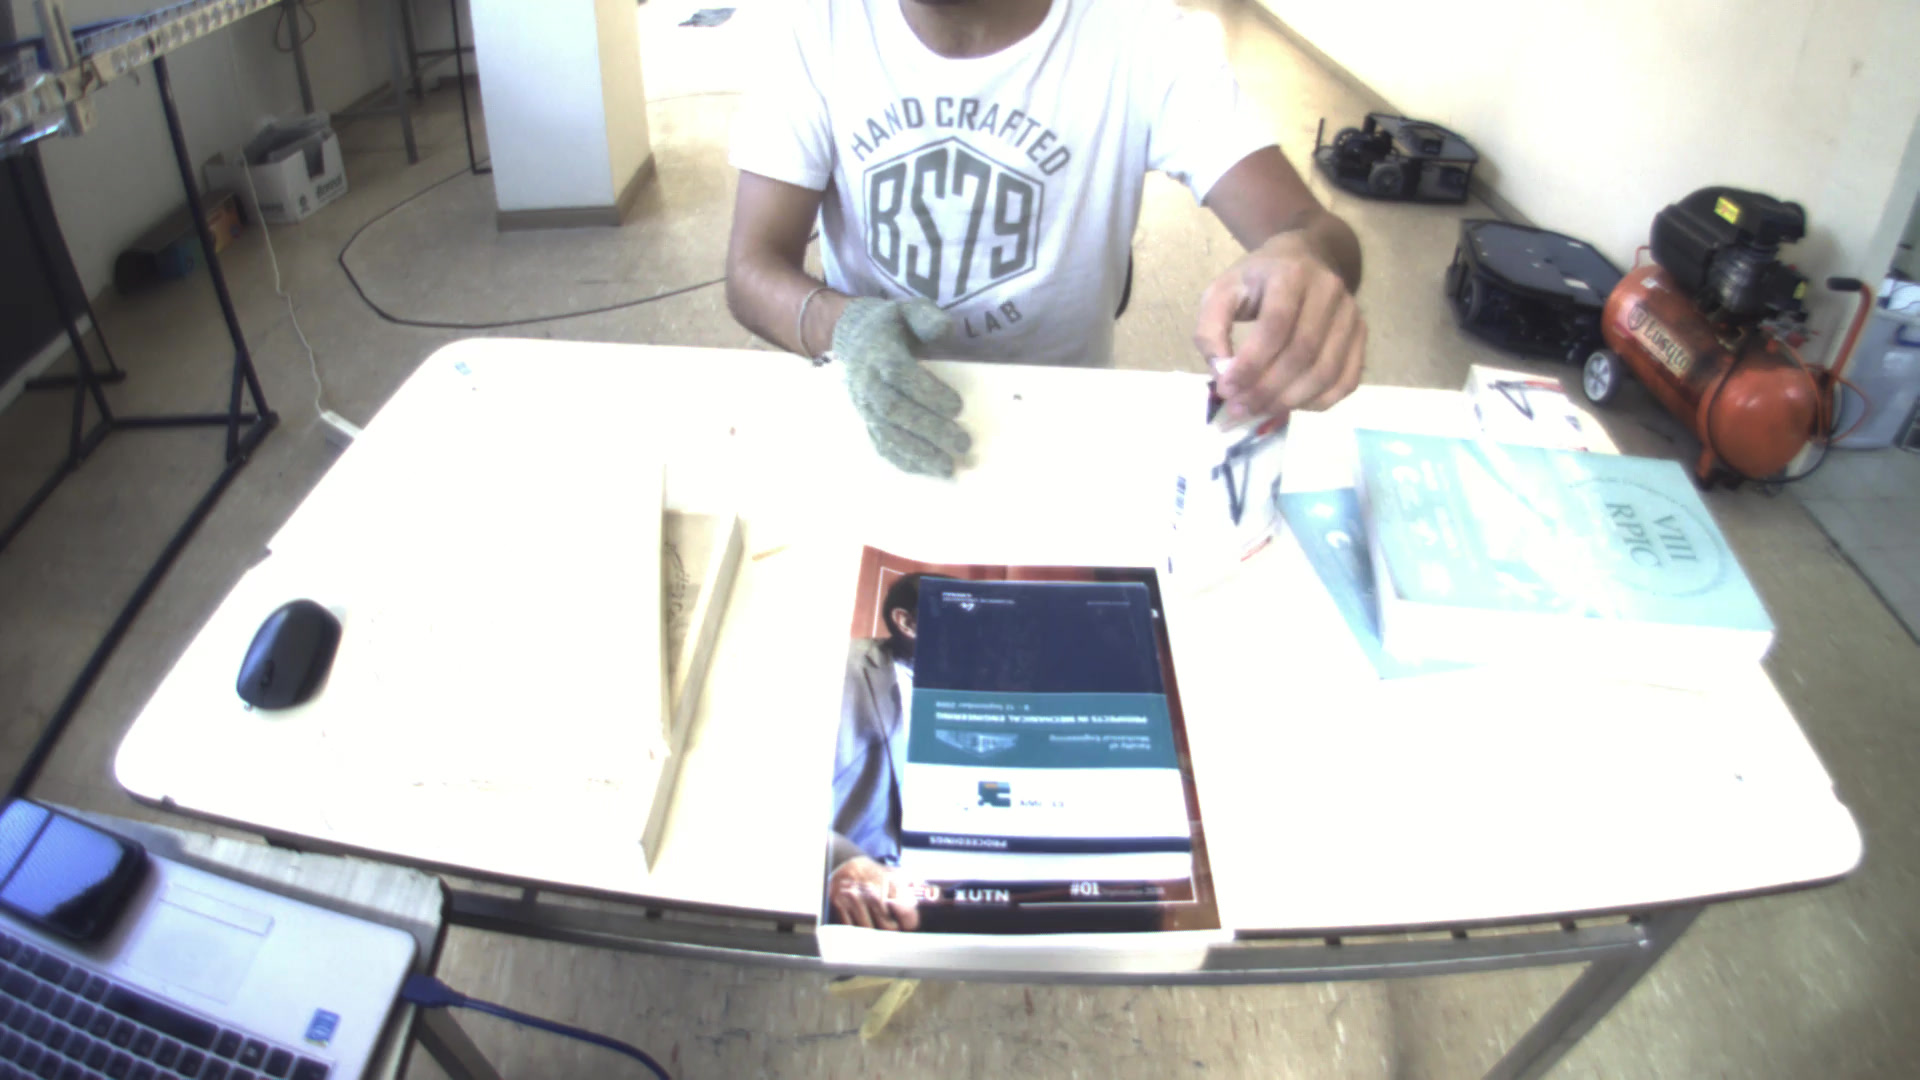hand: (1192, 231, 1381, 434), (824, 289, 985, 481)
